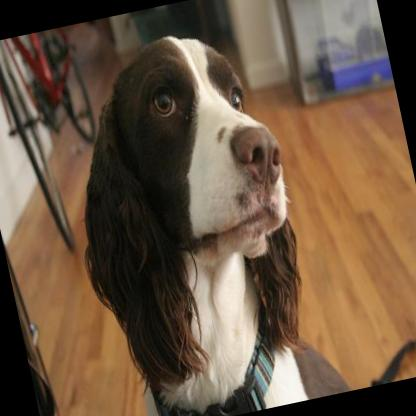English_springer: (41, 0, 416, 416)
